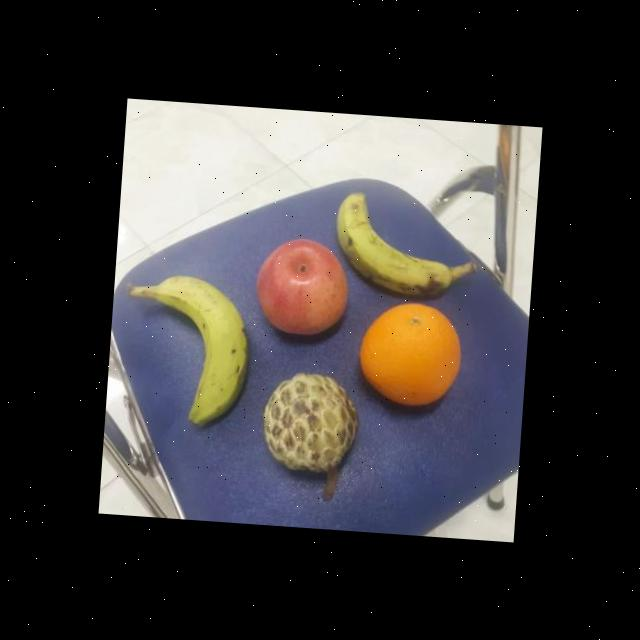Sakya fruit: (256, 366, 363, 474)
apple: (249, 232, 354, 341)
banana: (139, 270, 256, 430), (329, 185, 460, 298)
orange: (353, 295, 467, 411)
